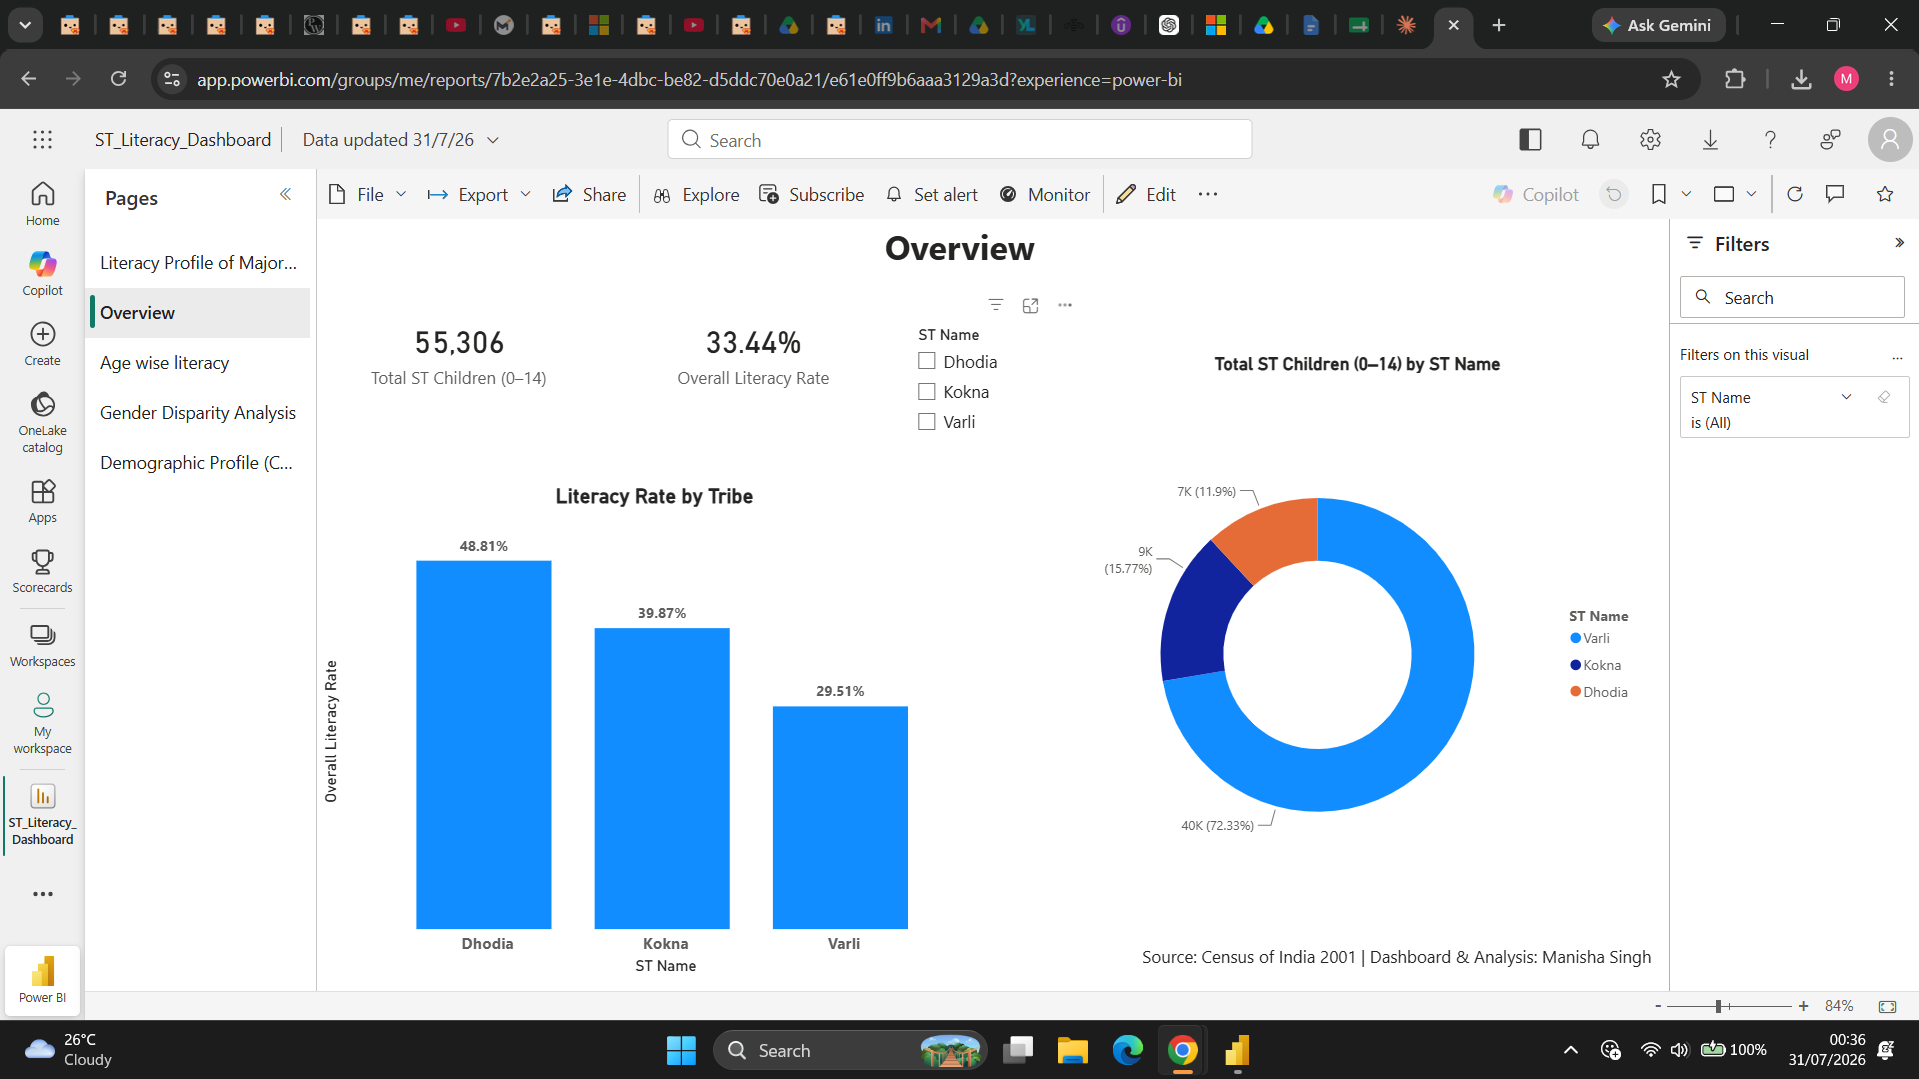

The page's visual inventory and layout, read from the dashboard file:
{"tool":"powerbi","page":{"name":"Overview","canvas":[1280,720],"ordinal":1},"visuals":[{"type":"card","fields":{"Values":["RAW DATA.Total Children"]},"box":[0,0,269,251.1],"z":0},{"type":"card","fields":{"Values":["RAW DATA.Overall Literacy %"]},"box":[269,0,289.5,251.1],"z":1000},{"type":"slicer","fields":{"Values":["RAW DATA.ST Name"]},"box":[555.7,96.1,167.4,155.1],"z":2000},{"type":"clusteredColumnChart","title":"Literacy Rate by Tribe","fields":{"Category":["RAW DATA.ST Name"],"Y":["RAW DATA.Overall Literacy %"]},"box":[0,251.1,639.5,469.3],"z":3000},{"type":"donutChart","fields":{"Category":["RAW DATA.ST Name"],"Y":["RAW DATA.Total Children"]},"box":[703.9,126.2,562.6,542],"z":4000},{"type":"textbox","box":[776.7,682,503.6,38.4],"z":5000},{"type":"textbox","box":[532.4,0,153.7,56.3],"z":6000}]}

Visuals, with their boxes on the page's 1280x720 design canvas (x1, y1, x2, y2). These are canvas units, not pixel positions in the 1919x1079 screenshot, which may show the page scaled, cropped or inside an application window:
card - RAW DATA.Total Children: (0, 0, 269, 251)
card - RAW DATA.Overall Literacy %: (269, 0, 558, 251)
slicer - RAW DATA.ST Name: (556, 96, 723, 251)
"Literacy Rate by Tribe" clusteredColumnChart: (0, 251, 640, 720)
donutChart - RAW DATA.ST Name x RAW DATA.Total Children: (704, 126, 1266, 668)
textbox: (777, 682, 1280, 720)
textbox: (532, 0, 686, 56)
